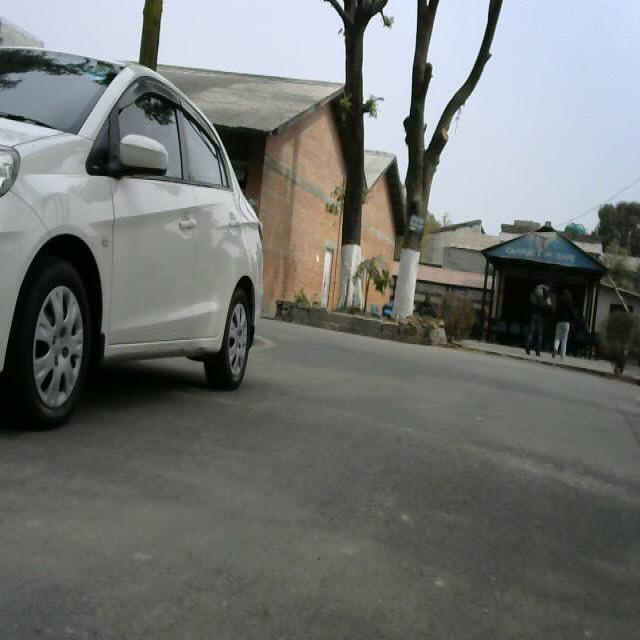Car: (3, 35, 286, 427)
Road: (0, 309, 640, 640)
trees: (326, 2, 481, 306)
